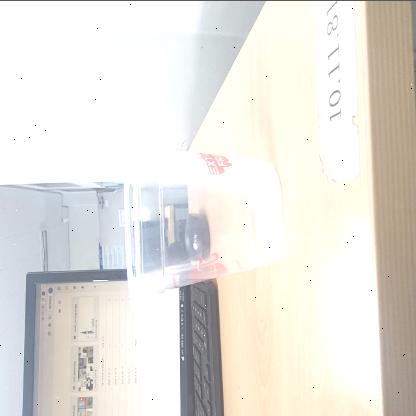Others: (121, 130, 283, 315)
